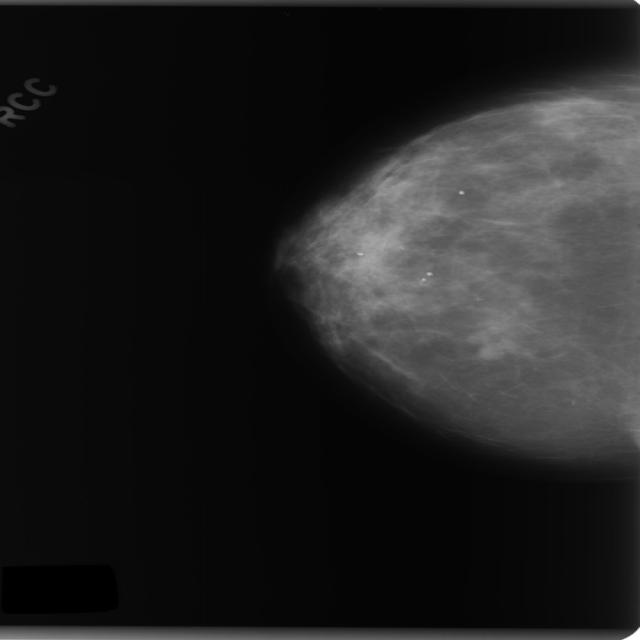tumour: (466, 327, 516, 360)
